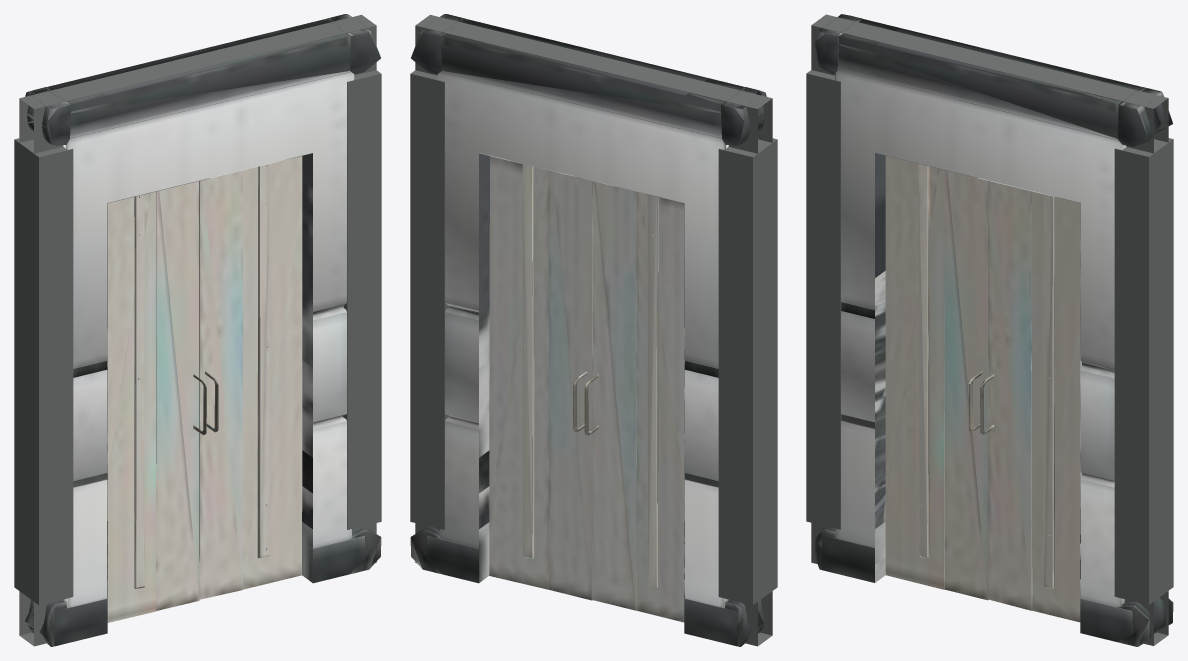
The model's file is wall-door.lod1.glb.
3 views of the same model, side by side, from view 1: azimuth 30°, elevation 25°; view 2: azimuth 150°, elevation 25°; view 3: azimuth 330°, elevation 25° (orthographic).
Bounding box in the file's own units: 2 × 3 × 0.3.
Materials: 2 (2 with a texture image).
